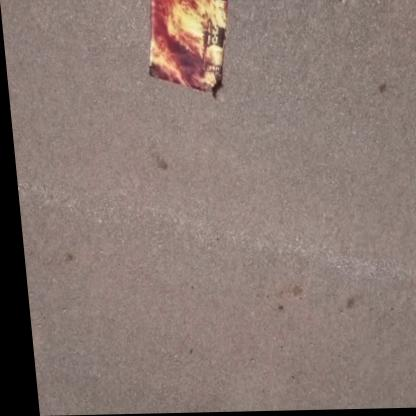fire-poster: (140, 0, 238, 104)
